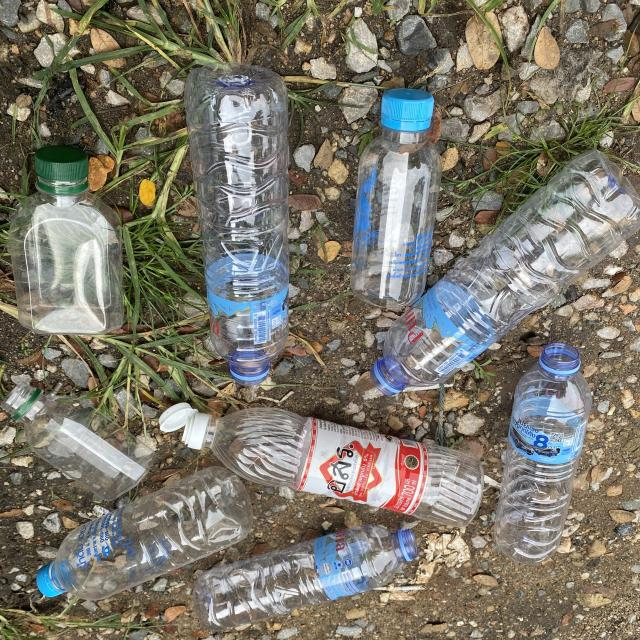plastik: (371, 150, 640, 394), (160, 403, 483, 527), (186, 63, 289, 386), (37, 466, 253, 600), (194, 524, 419, 631), (494, 343, 592, 564), (9, 146, 123, 334), (351, 88, 442, 308), (2, 382, 155, 500)
